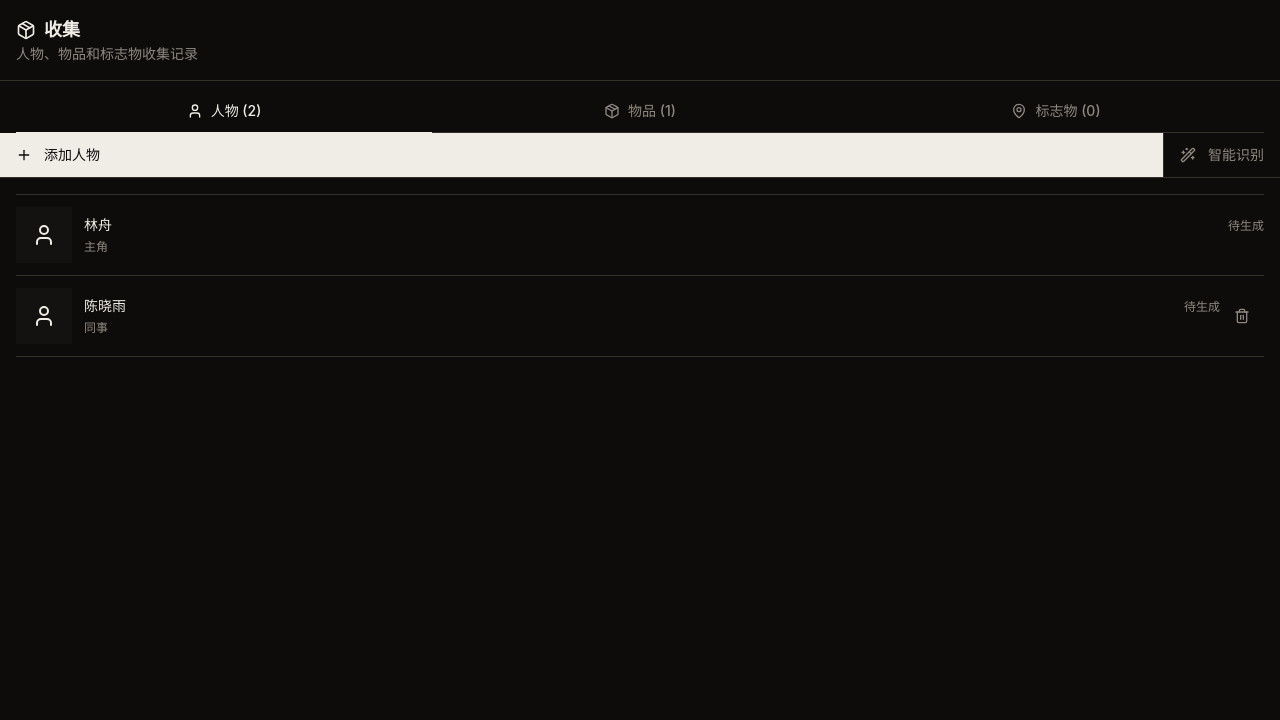
Test: CollectionPanel action contracts › blocks the name . because it cannot round-trip through deletion routes
Step 1. Click the button "添加人物" → (72, 154), box x1=0 y1=133 x2=1163 y2=177
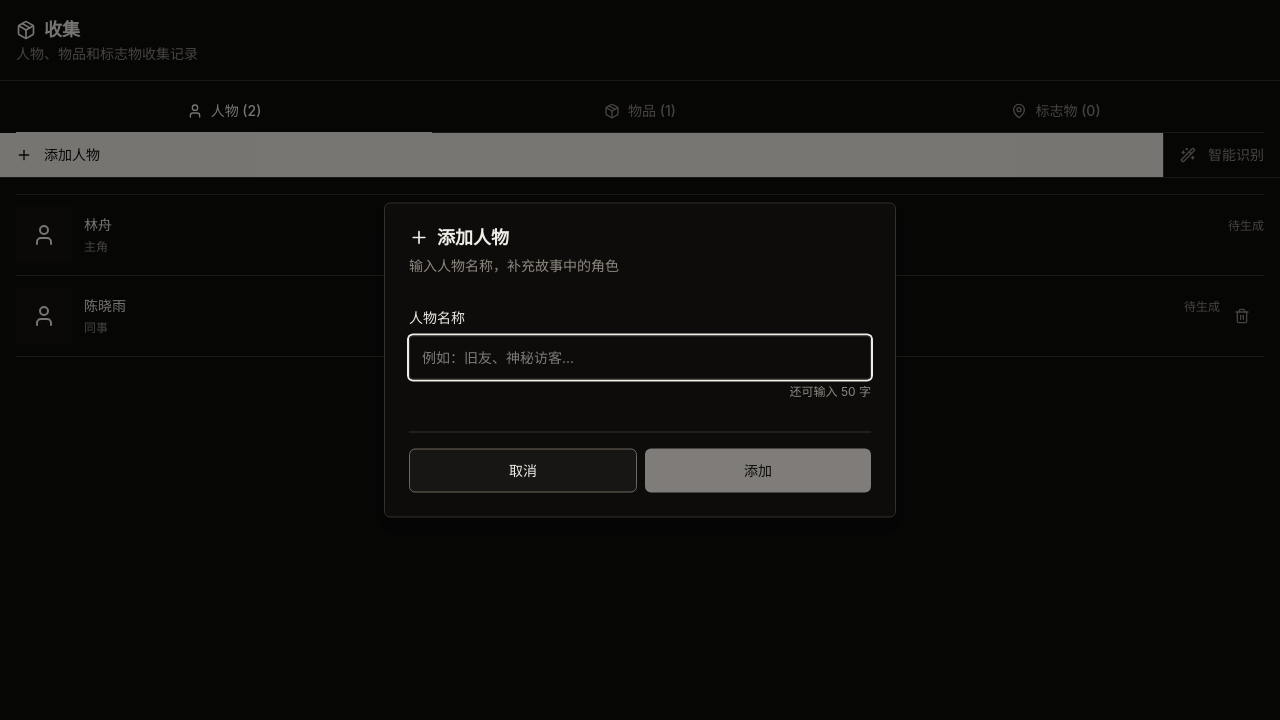
Step 2. Type "." into the field labelled "人物名称" → (640, 358), box x1=409 y1=336 x2=871 y2=380
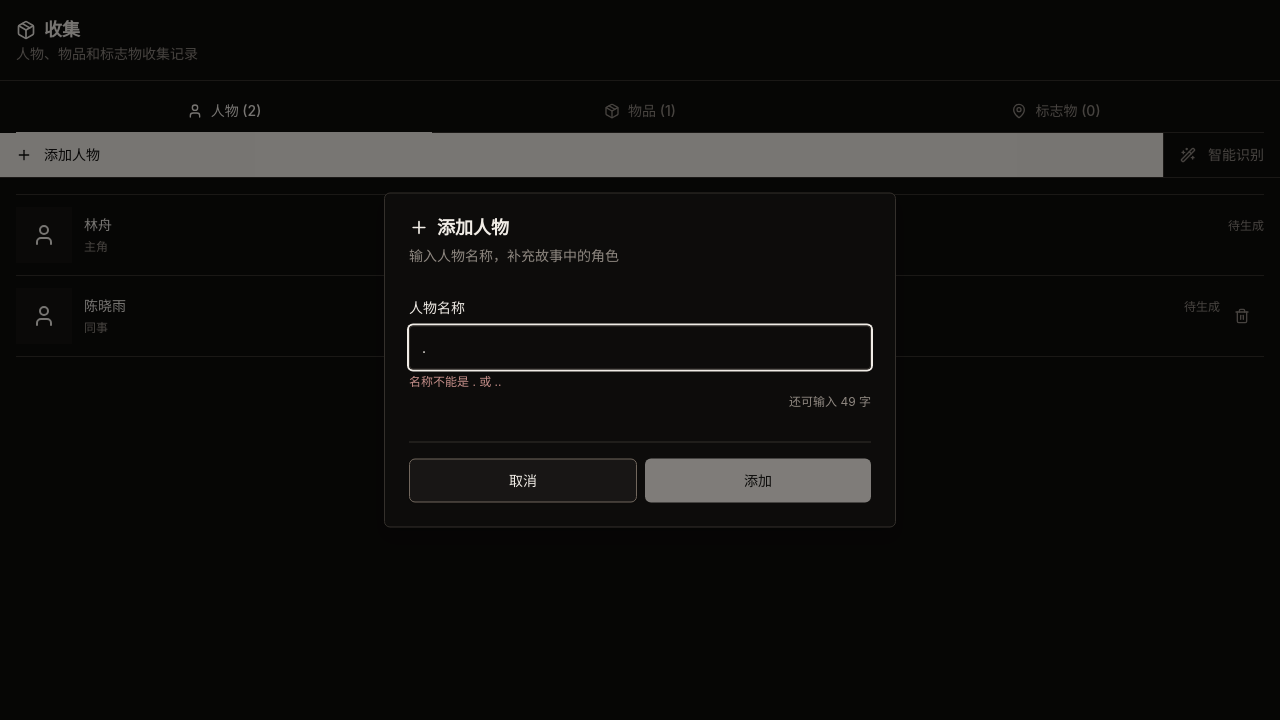
Result: the button "添加" is disabled at x1=645 y1=458 x2=871 y2=502
Result: the text "名称不能是 . 或 .." is shown at x1=409 y1=374 x2=502 y2=388
